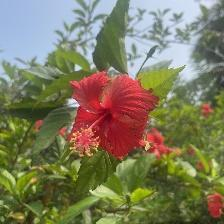hibiscus: (60, 69, 162, 168)
